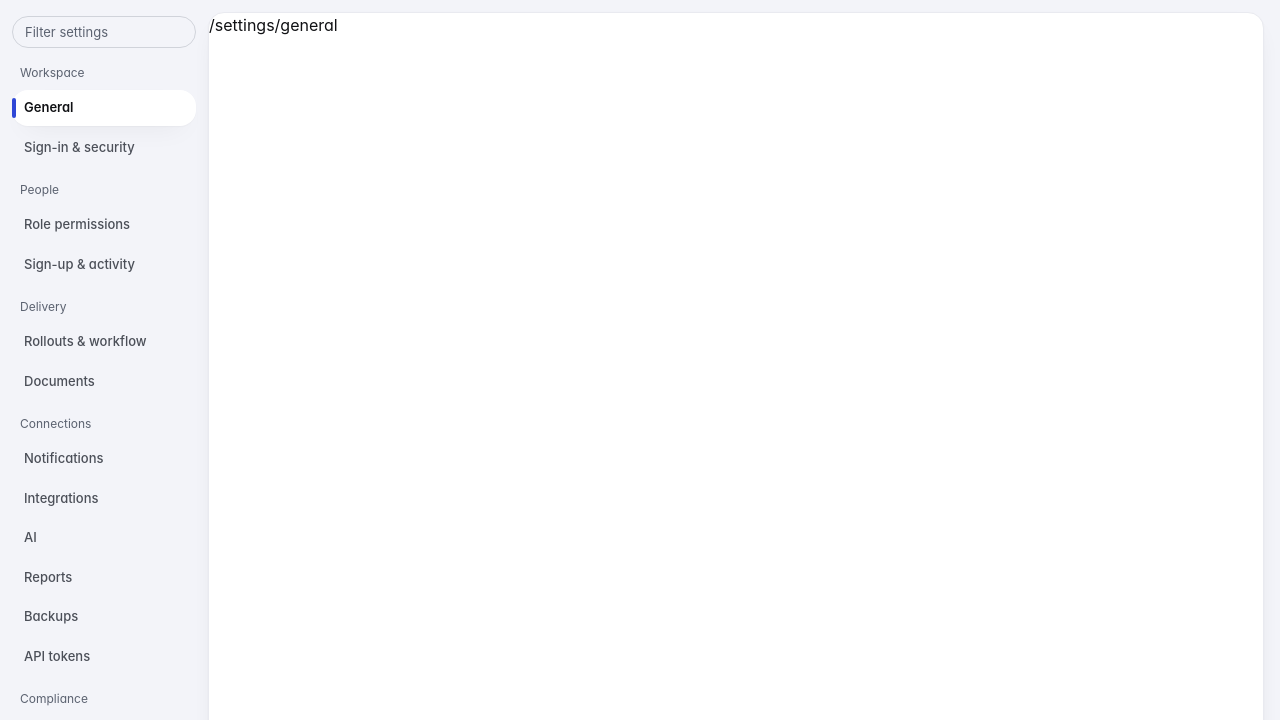
Test: the Settings menu filter (B14) › says so when nothing matches, and Esc restores the menu
This screenshot has width=1280, height=720.
Type "zzzz" into the search field labelled "Filter settings" at (104, 32), box [12,16,196,48]
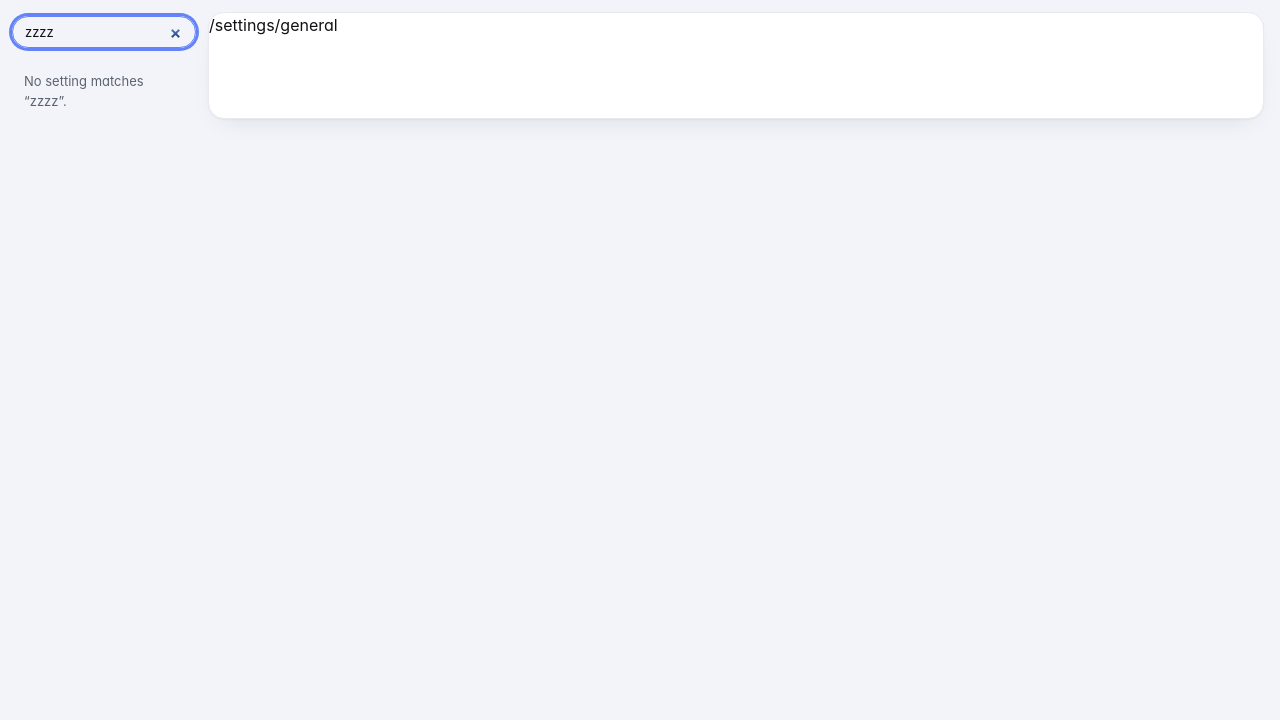
Check: the text "No setting matches “zzzz”." is shown, box [24,73,144,108]
Press Escape
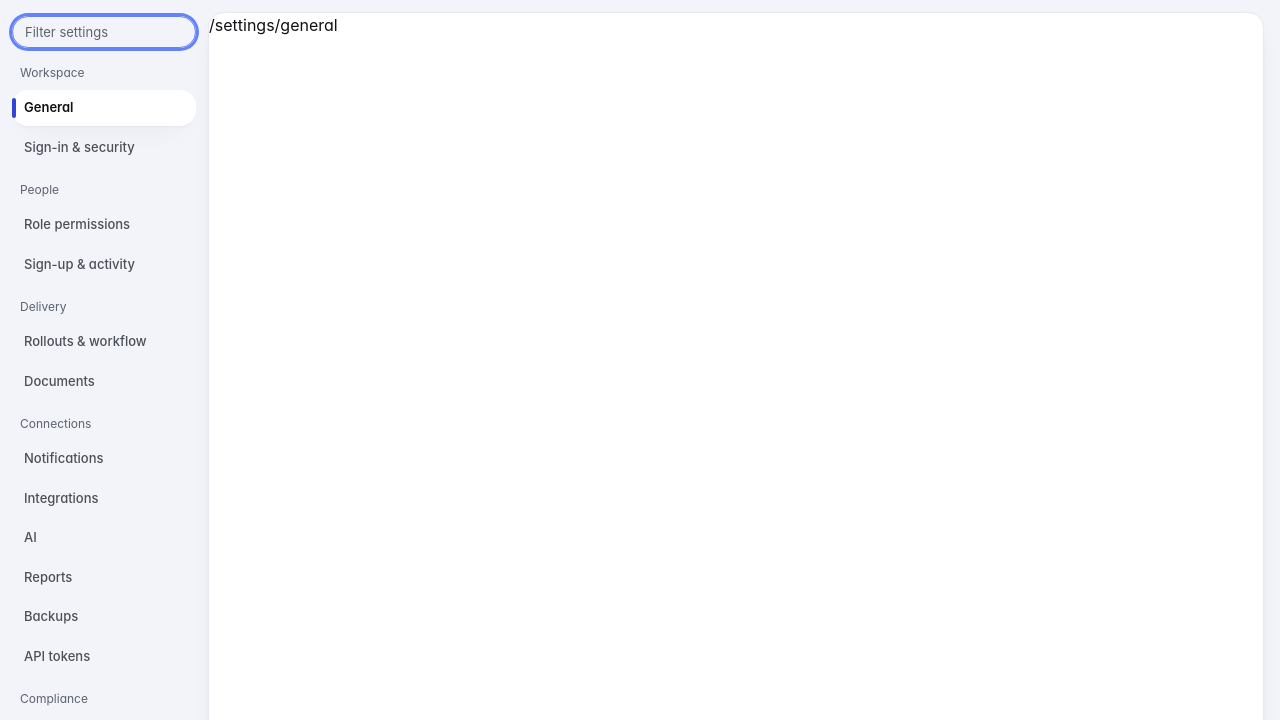
Check: the link "Backups" is shown, box [24,608,78,624]
